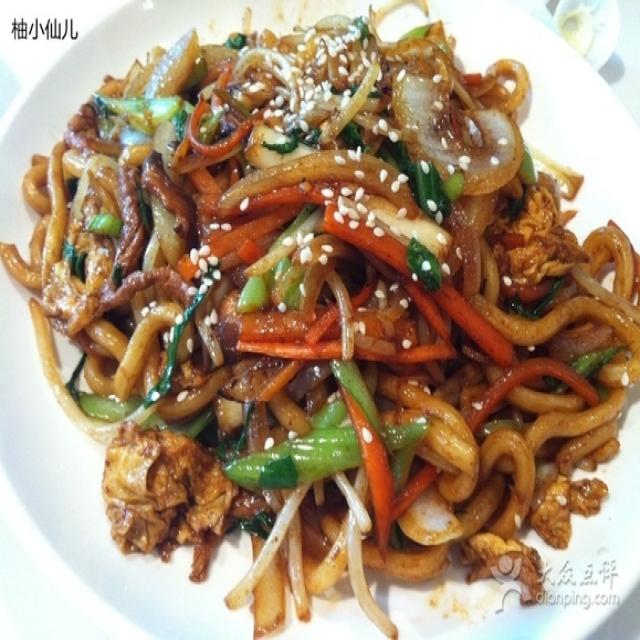面条主食: (14, 12, 634, 634)
